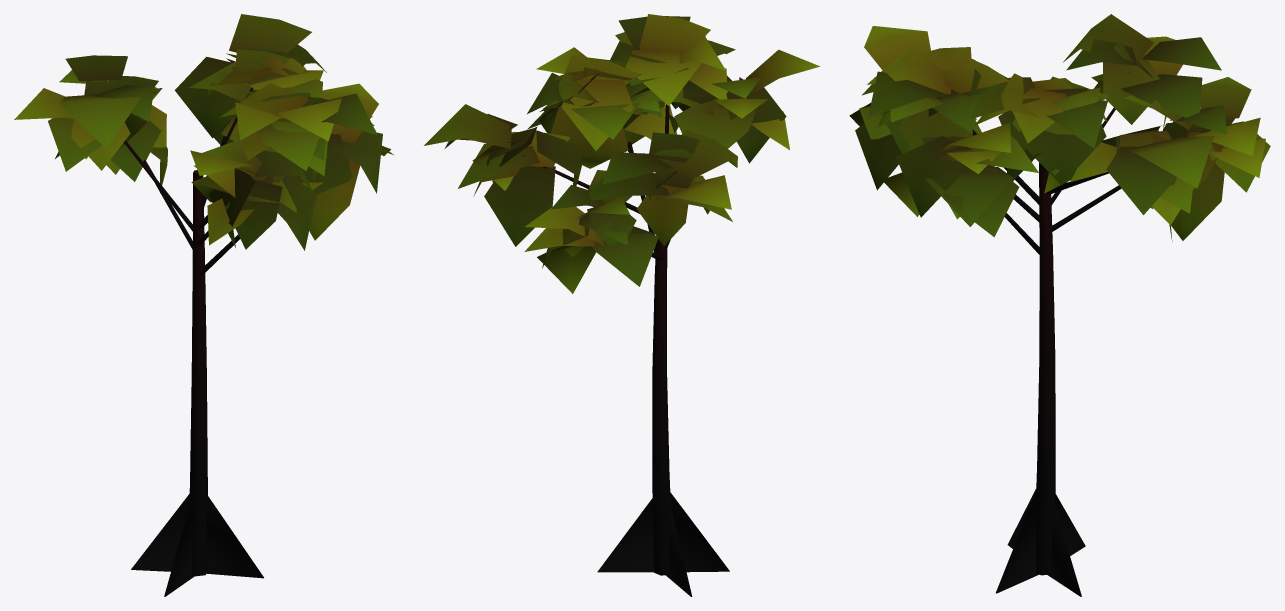
Rendered from patch_elephant_far.glb.
3 views of the same model, side by side, from view 1: azimuth 30°, elevation 25°; view 2: azimuth 150°, elevation 25°; view 3: azimuth 270°, elevation 25° (orthographic). The views are drawn at different scales.
Parts seen in each view (by area): view 1: patch_elephant_far; view 2: patch_elephant_far; view 3: patch_elephant_far.
Part boxes in pixels (bbox=[...]): patch_elephant_far: bbox=[14, 14, 394, 596]; patch_elephant_far: bbox=[424, 14, 820, 596]; patch_elephant_far: bbox=[849, 14, 1270, 596].
Size of the model in its own units: 6.72 by 10.66 by 7.61.
1 material, 1 textured.
